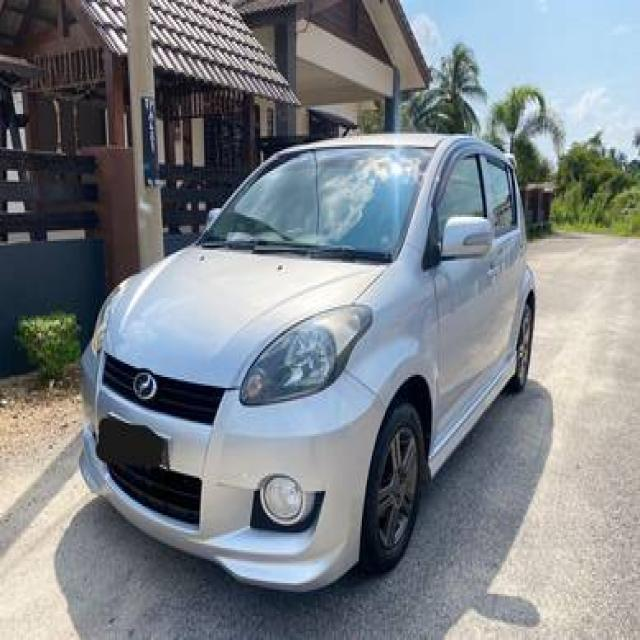PeroduaMyvi: (76, 127, 536, 594)
